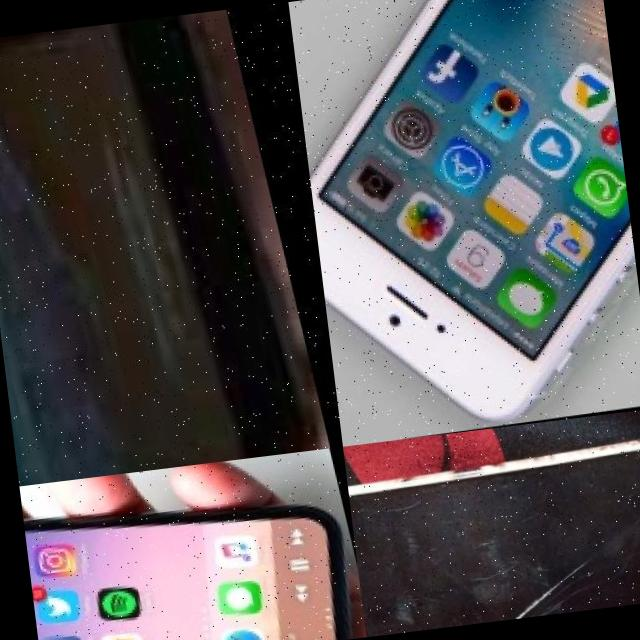screen crack: (384, 439, 640, 632)
